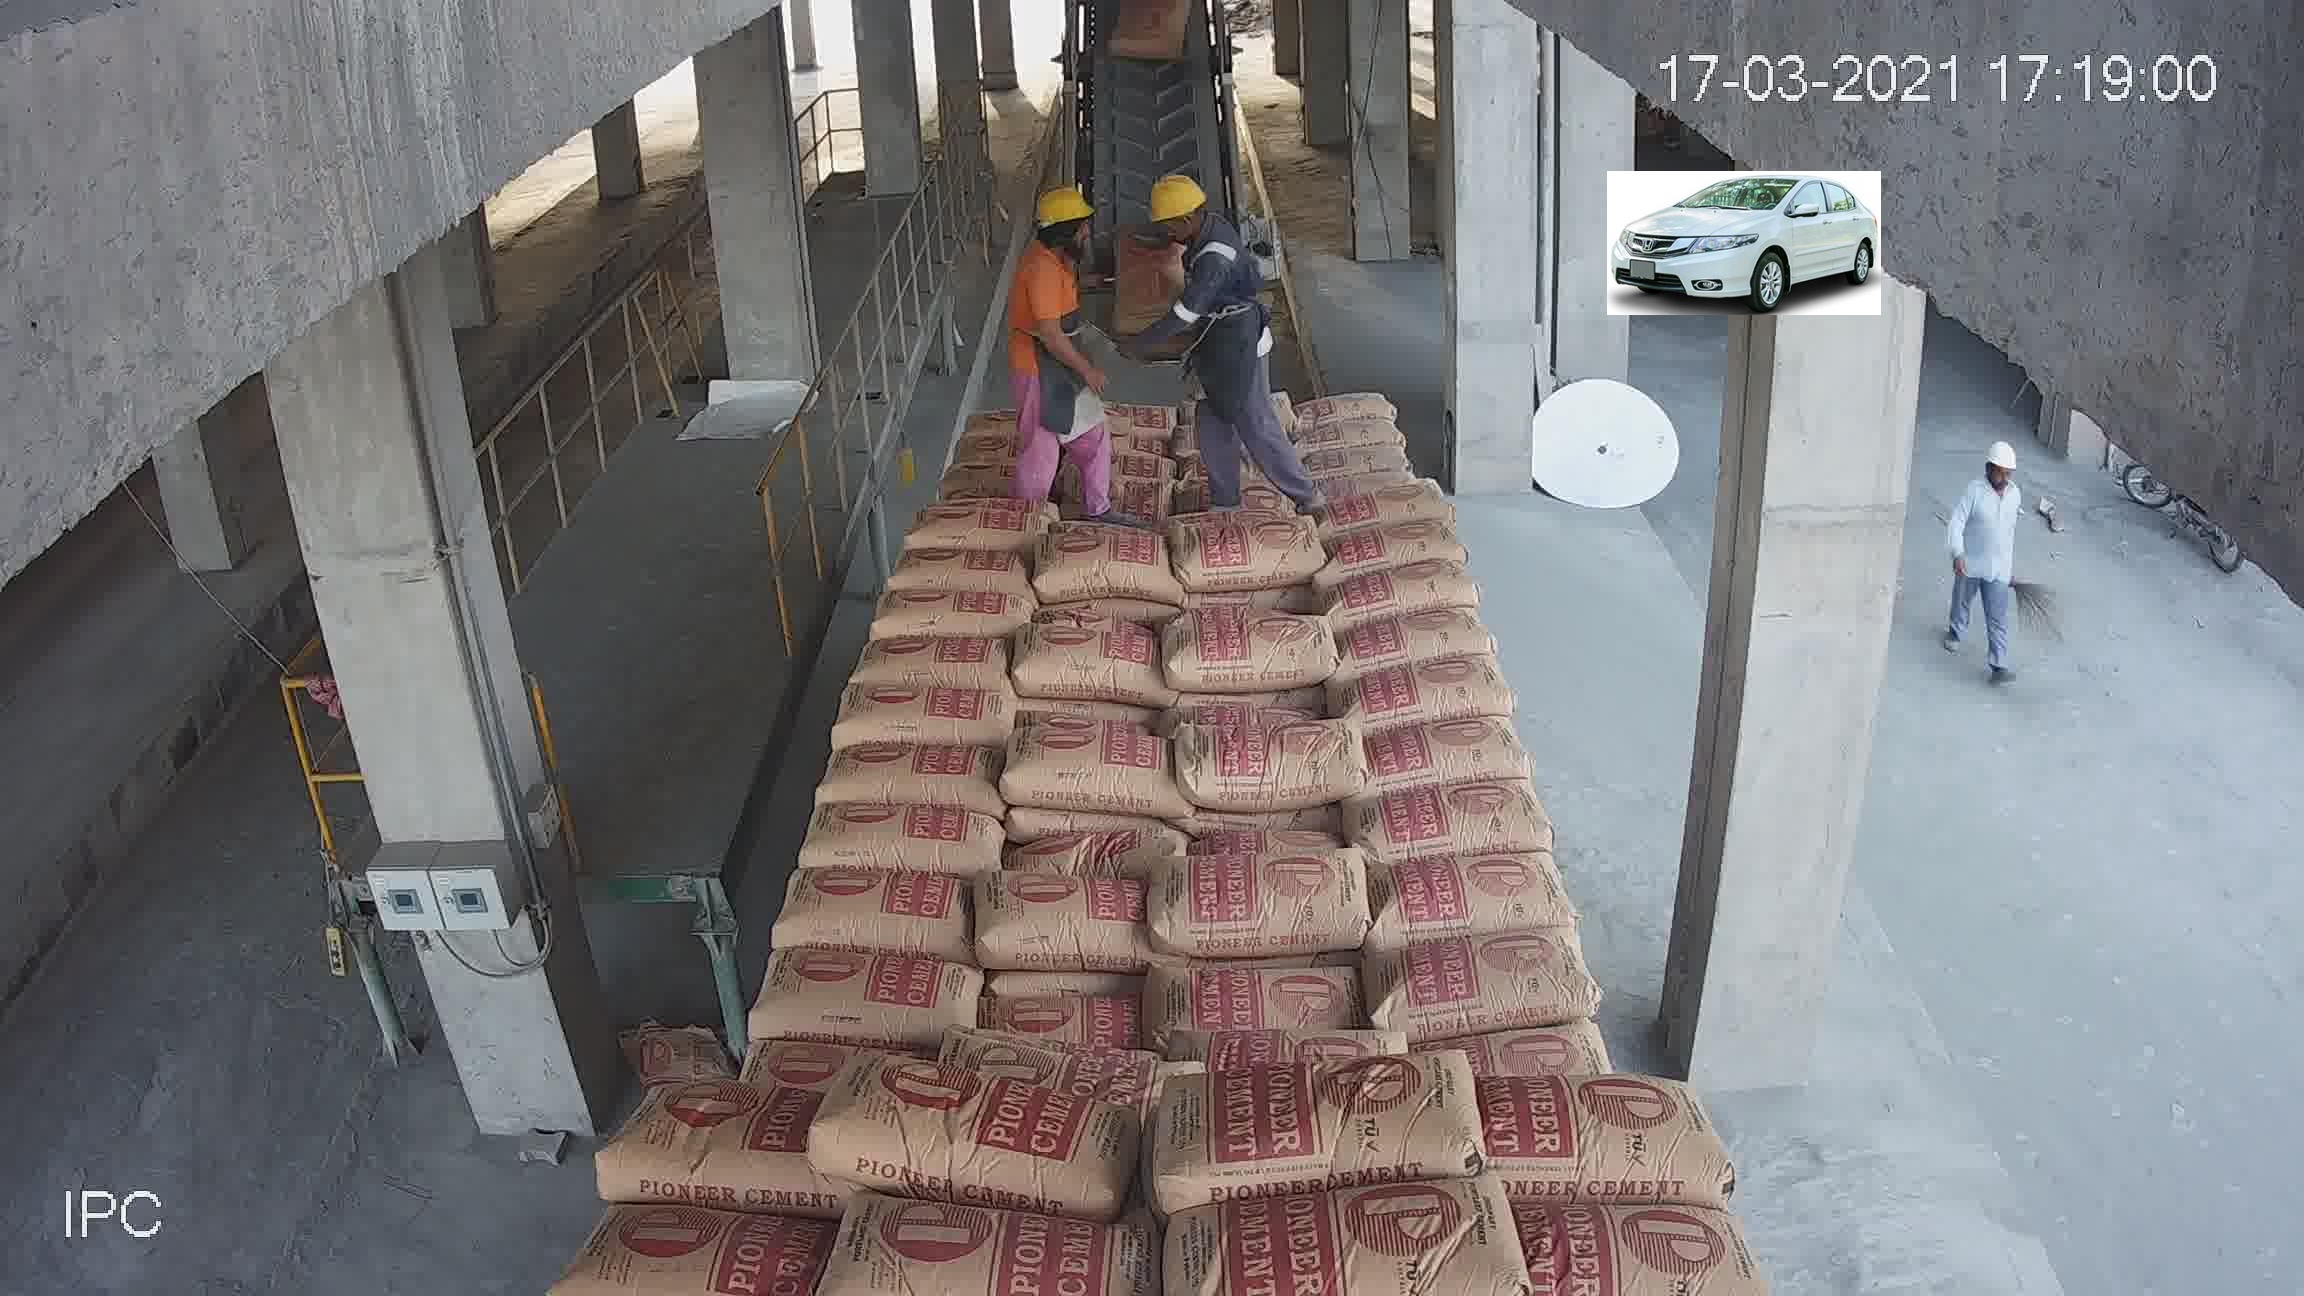bag: (1109, 13, 1188, 60)
bag_h: (1150, 1055, 1476, 1217), (805, 1055, 1149, 1204), (1154, 1173, 1514, 1282), (1457, 1074, 1715, 1204), (1133, 843, 1362, 964), (1377, 908, 1590, 1036), (581, 1078, 805, 1196), (756, 930, 976, 1041), (1516, 1192, 1771, 1287), (1385, 847, 1559, 968), (975, 855, 1146, 976), (1195, 1010, 1412, 1103), (820, 1220, 1149, 1280), (1355, 764, 1559, 861), (1185, 709, 1372, 812), (1005, 718, 1193, 817), (775, 866, 976, 957), (1158, 962, 1375, 1044), (790, 805, 1013, 885), (1359, 711, 1541, 801), (1331, 650, 1519, 736), (560, 1225, 826, 1285), (824, 673, 1017, 753), (1431, 1003, 1627, 1082), (1184, 604, 1340, 695), (1165, 503, 1318, 593), (1027, 508, 1176, 597), (807, 741, 995, 810), (843, 620, 1014, 695), (1336, 606, 1502, 677), (959, 1033, 1184, 1084), (1014, 812, 1184, 878), (1324, 563, 1497, 628), (1022, 628, 1166, 706), (1301, 473, 1456, 543), (1307, 530, 1472, 590), (987, 980, 1130, 1041), (896, 502, 1055, 554), (873, 589, 1024, 644), (885, 548, 1033, 597), (1298, 437, 1423, 483), (1067, 392, 1184, 437), (1288, 385, 1402, 423), (1084, 437, 1174, 484), (1307, 418, 1407, 454), (926, 451, 1014, 487), (949, 438, 1014, 472)
belt: (1067, 36, 1245, 340)
